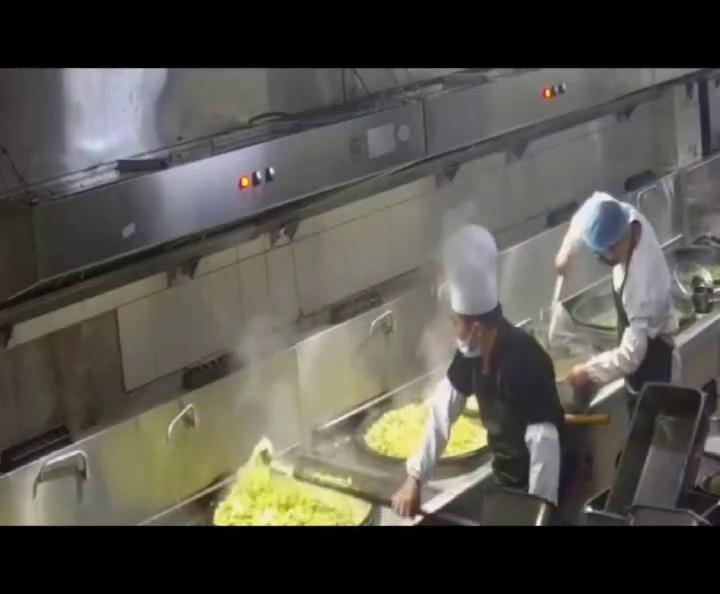gloves: (583, 197, 632, 250)
